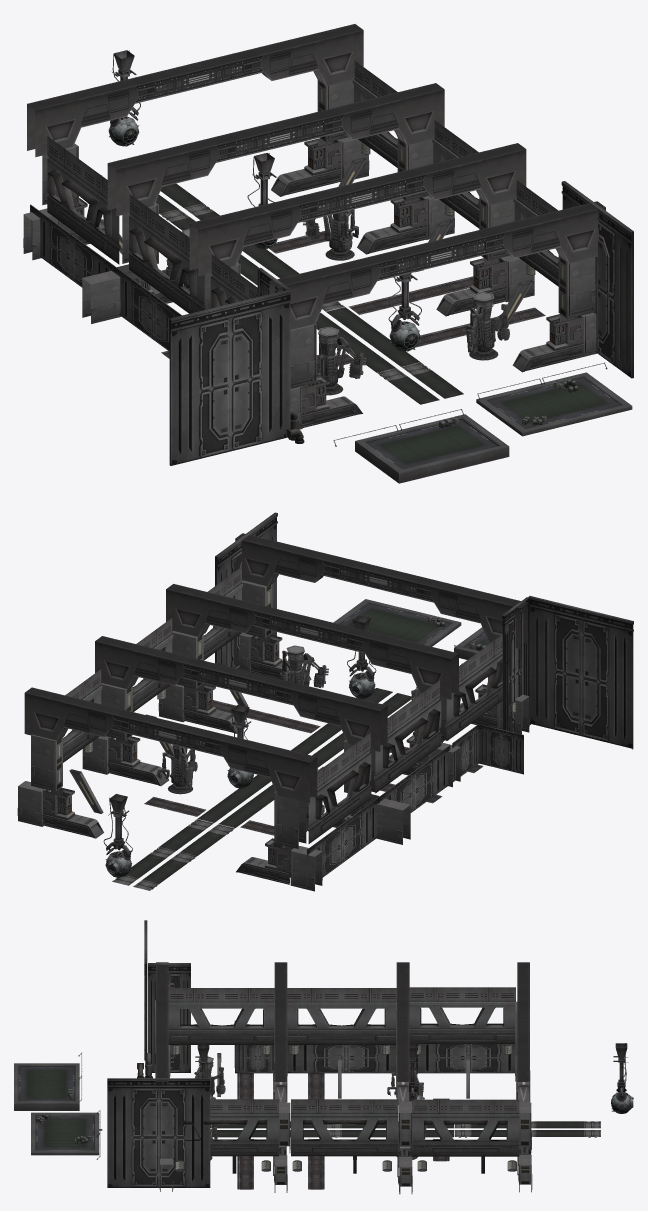
The model's file is env_emp_tfu_tiefighter_factory_01_pre.glb.
3 renders of one model, top to bottom at view 1: azimuth 30°, elevation 25°; view 2: azimuth 150°, elevation 25°; view 3: azimuth 270°, elevation 25°, orthographic. The views are drawn at different scales.
Parts seen in each view (by area): view 1: tfu_wall_01_mesh (5), tfu_beam_01_mesh (1), tfu_beam_01_mesh (2), tfu_beam_01_mesh (3), tfu_beam_01_mesh, tfu_floor_02_mesh (1), tfu_wall_01_mesh (6), tfu_floor_02_mesh, tfu_window_01_mesh (2), tfu_window_01_mesh (1), tfu_mechanical_arm_01b_mesh (×3), tfu_wall_01_mesh (4) (+31 smaller); view 2: tfu_wall_01_mesh (5), tfu_beam_01_mesh (3), tfu_beam_01_mesh (2), tfu_beam_01_mesh (1), tfu_beam_01_mesh, tfu_window_01_mesh (1), tfu_window_01_mesh (2), tfu_window_01_mesh, tfu_floor_02_mesh, tfu_wall_01_mesh, tfu_wall_01_mesh (4), tfu_wall_01_mesh (3) (+32 smaller); view 3: tfu_wall_01_mesh (6), tfu_window_01_mesh (5), tfu_window_01_mesh (4), tfu_window_01_mesh (1), tfu_window_01_mesh (2), tfu_window_01_mesh, tfu_window_01_mesh (3), tfu_floor_02_mesh (1), tfu_wall_01_mesh (3), tfu_floor_02_mesh, tfu_wall_01_mesh (4), tfu_wall_01_mesh (+20 smaller).
Boxes of the visible parts, left/top/right/bottom form: tfu_wall_01_mesh (5): left=169, top=289, right=290, bottom=465; tfu_beam_01_mesh (1): left=189, top=143, right=526, bottom=276; tfu_beam_01_mesh (2): left=107, top=83, right=444, bottom=216; tfu_beam_01_mesh (3): left=27, top=24, right=363, bottom=157; tfu_beam_01_mesh: left=269, top=201, right=605, bottom=329; tfu_floor_02_mesh (1): left=355, top=414, right=509, bottom=483; tfu_wall_01_mesh (6): left=561, top=181, right=633, bottom=378; tfu_floor_02_mesh: left=476, top=372, right=632, bottom=436; tfu_window_01_mesh (2): left=47, top=136, right=120, bottom=264; tfu_window_01_mesh (1): left=129, top=194, right=205, bottom=313; tfu_mechanical_arm_01b_mesh (×3): left=316, top=209, right=509, bottom=386; tfu_wall_01_mesh (4): left=30, top=204, right=113, bottom=287; tfu_wall_01_mesh (5): left=528, top=596, right=633, bottom=749; tfu_beam_01_mesh (3): left=24, top=687, right=317, bottom=803; tfu_beam_01_mesh (2): left=95, top=636, right=387, bottom=751; tfu_beam_01_mesh (1): left=166, top=584, right=458, bottom=699; tfu_beam_01_mesh: left=235, top=533, right=527, bottom=648; tfu_window_01_mesh (1): left=374, top=680, right=441, bottom=793; tfu_window_01_mesh (2): left=307, top=733, right=371, bottom=843; tfu_window_01_mesh: left=445, top=634, right=508, bottom=740; tfu_floor_02_mesh: left=333, top=599, right=461, bottom=646; tfu_wall_01_mesh: left=502, top=597, right=529, bottom=732; tfu_wall_01_mesh (4): left=306, top=798, right=379, bottom=888; tfu_wall_01_mesh (3): left=378, top=745, right=450, bottom=812; tfu_wall_01_mesh (6): left=107, top=1078, right=210, bottom=1187; tfu_window_01_mesh (5): left=412, top=1099, right=519, bottom=1156; tfu_window_01_mesh (4): left=291, top=1099, right=398, bottom=1156; tfu_window_01_mesh (1): left=287, top=988, right=396, bottom=1044; tfu_window_01_mesh (2): left=409, top=987, right=515, bottom=1043; tfu_window_01_mesh: left=168, top=988, right=274, bottom=1044; tfu_window_01_mesh (3): left=183, top=1099, right=278, bottom=1156; tfu_floor_02_mesh (1): left=14, top=1063, right=79, bottom=1110; tfu_wall_01_mesh (3): left=287, top=1045, right=395, bottom=1073; tfu_floor_02_mesh: left=31, top=1112, right=99, bottom=1155; tfu_wall_01_mesh (4): left=415, top=1044, right=515, bottom=1073; tfu_wall_01_mesh: left=148, top=963, right=190, bottom=1072.
Size of the model in its own units: 80.44 by 25.56 by 127.
20 materials, 20 textured.
